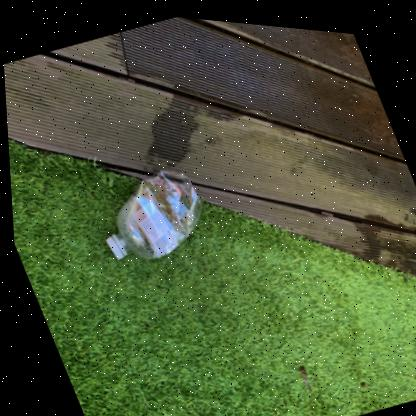Plastic: (102, 167, 198, 256)
